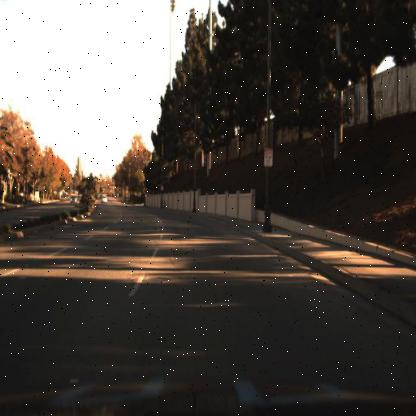car: (98, 189, 110, 208), (67, 190, 78, 208)
